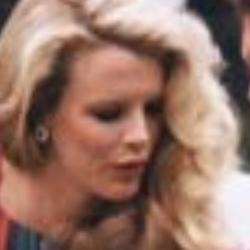face: (3, 1, 240, 209)
